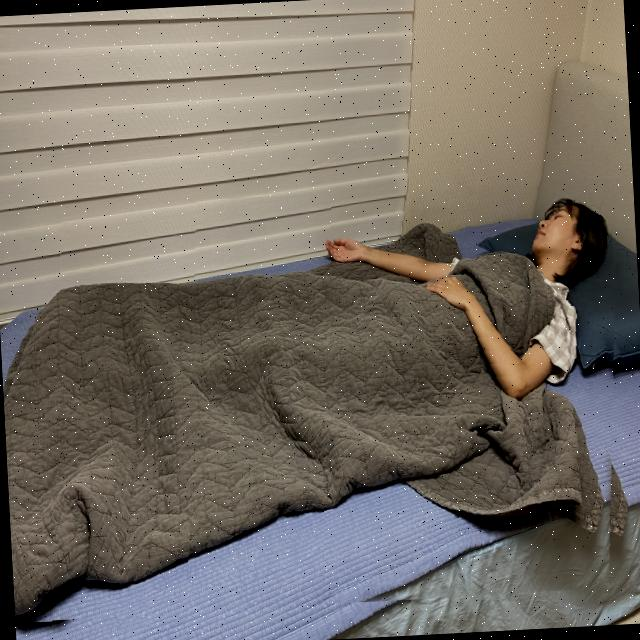people: (0, 178, 639, 623)
